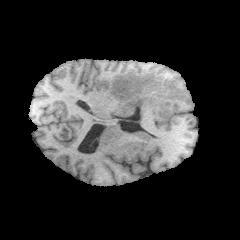glioma: (110, 69, 185, 127)
